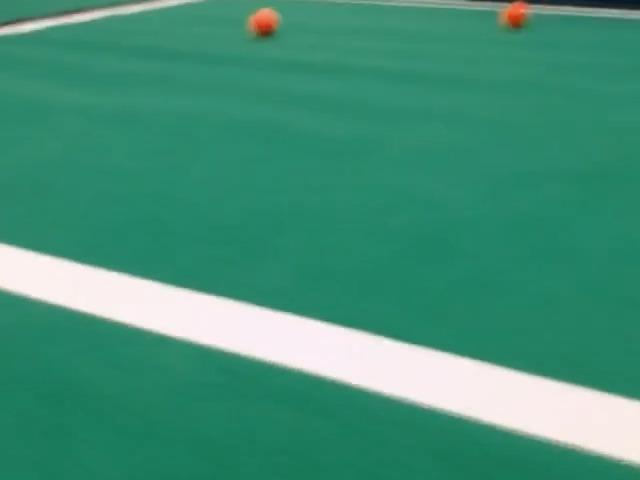Ball: (247, 8, 280, 37), (498, 1, 530, 28)
